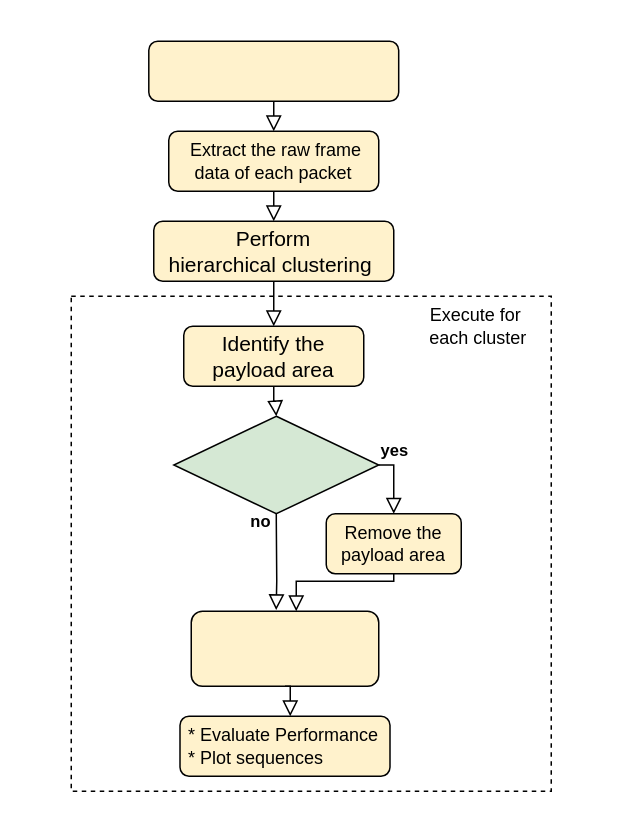
Some shapes in this 621 by 831 pixel diagram are drawn without their labels. Each missing label, with the centre of its shape:
"Does the payload area exist?" belongs at pixel 275 464.
"Find frequent sequences" belongs at pixel 284 648.
"Read a pcap file / Capture using pyshark" belongs at pixel 273 70.
